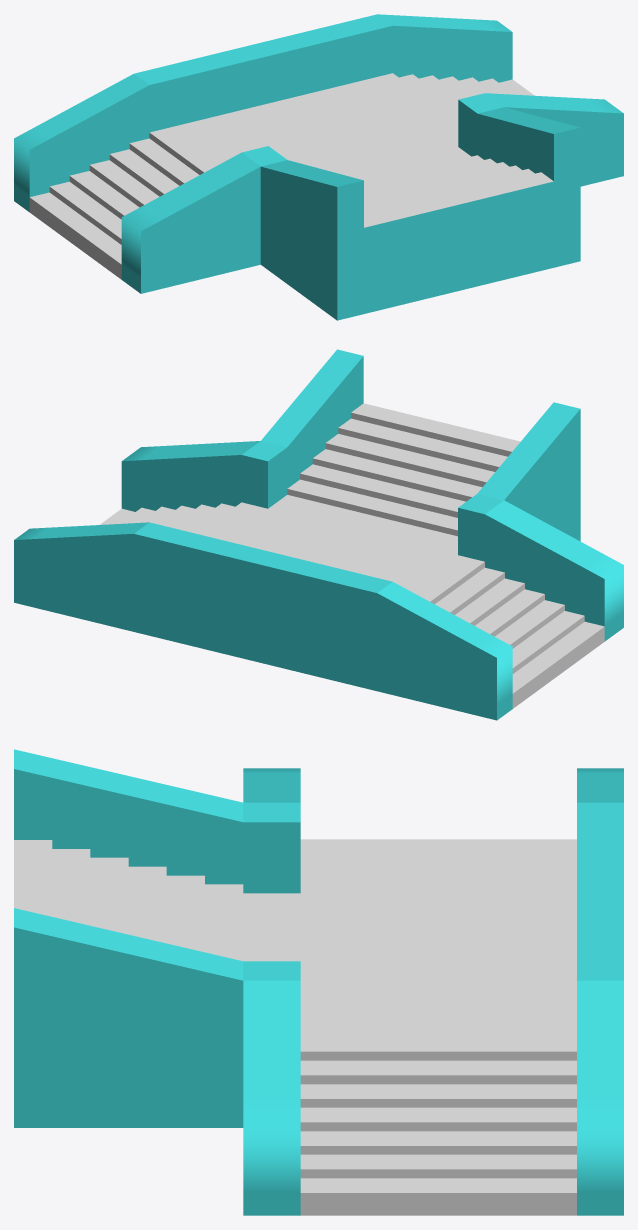
File: STAIRS.fbx
The picture shows the model from 3 angles, top to bottom: view 1: azimuth 30°, elevation 25°; view 2: azimuth 150°, elevation 25°; view 3: azimuth 270°, elevation 25°; orthographic projection. The views are drawn at different scales.
Visible parts, largest first — view 1: Cube.013; view 2: Cube.013; view 3: Cube.013.
Part boxes in pixels (x1,y1,x2,y2): Cube.013: [14, 14, 623, 320]; Cube.013: [14, 349, 623, 720]; Cube.013: [14, 749, 623, 1215].
Bounding box in the file's own units: 853 × 226 × 622.
